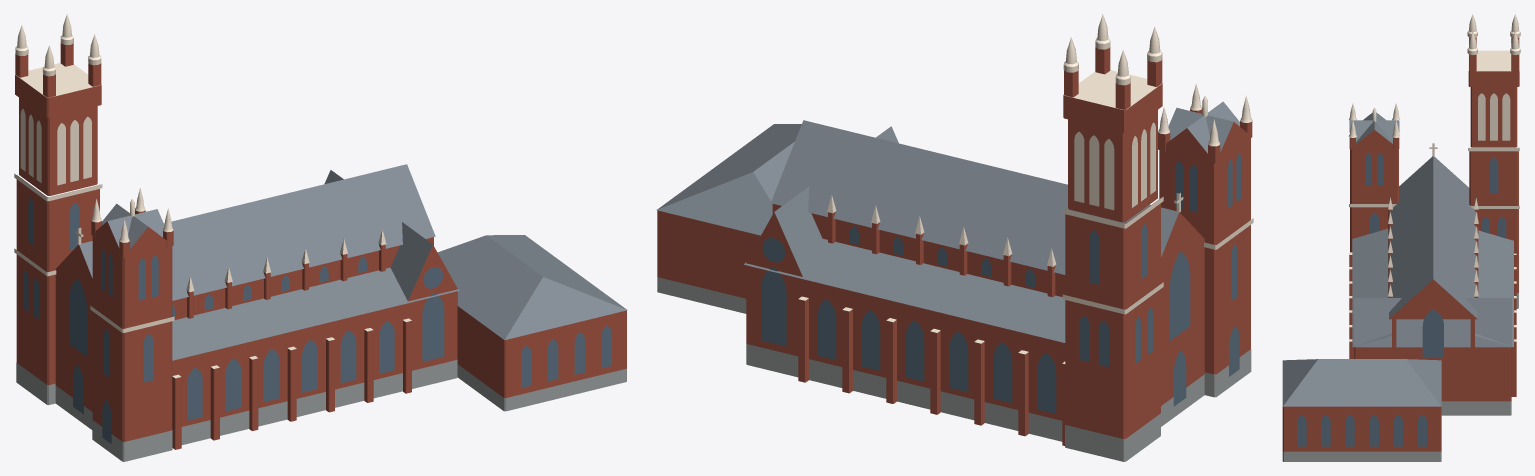
Rendered from atl-shrine-immaculate-conception.glb.
3 views of the same model, side by side, from view 1: azimuth 30°, elevation 25°; view 2: azimuth 150°, elevation 25°; view 3: azimuth 270°, elevation 25° (orthographic). The views are drawn at different scales.
Visible parts, largest first — view 1: Shrine of the Immaculate Conception; view 2: Shrine of the Immaculate Conception; view 3: Shrine of the Immaculate Conception.
Boxes of the visible parts, x1=… form: Shrine of the Immaculate Conception: x1=14, y1=14, x2=627, y2=461; Shrine of the Immaculate Conception: x1=656, y1=14, x2=1253, y2=461; Shrine of the Immaculate Conception: x1=1282, y1=14, x2=1520, y2=461.
Size of the model in its own units: 58.26 by 43 by 33.61.
